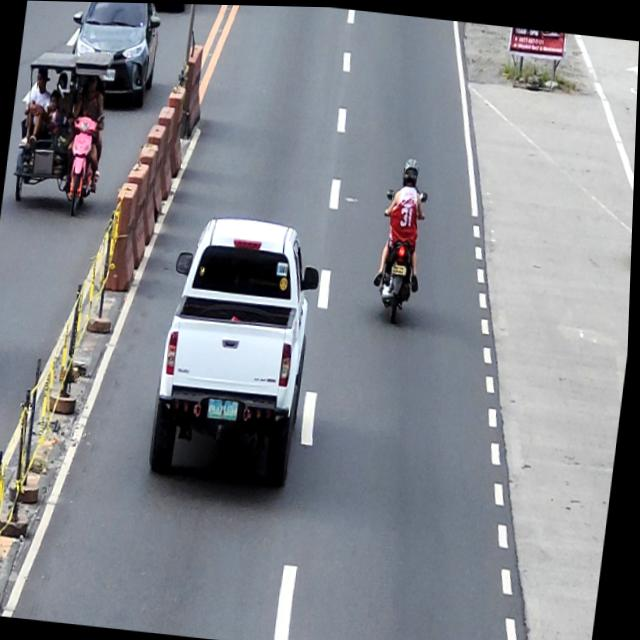Car: (150, 213, 327, 494), (63, 1, 164, 111)
License-Plate: (209, 397, 242, 421), (101, 67, 116, 83), (392, 261, 409, 274)
Motorcycle: (373, 185, 430, 325)
Tricycle: (11, 46, 114, 220)
